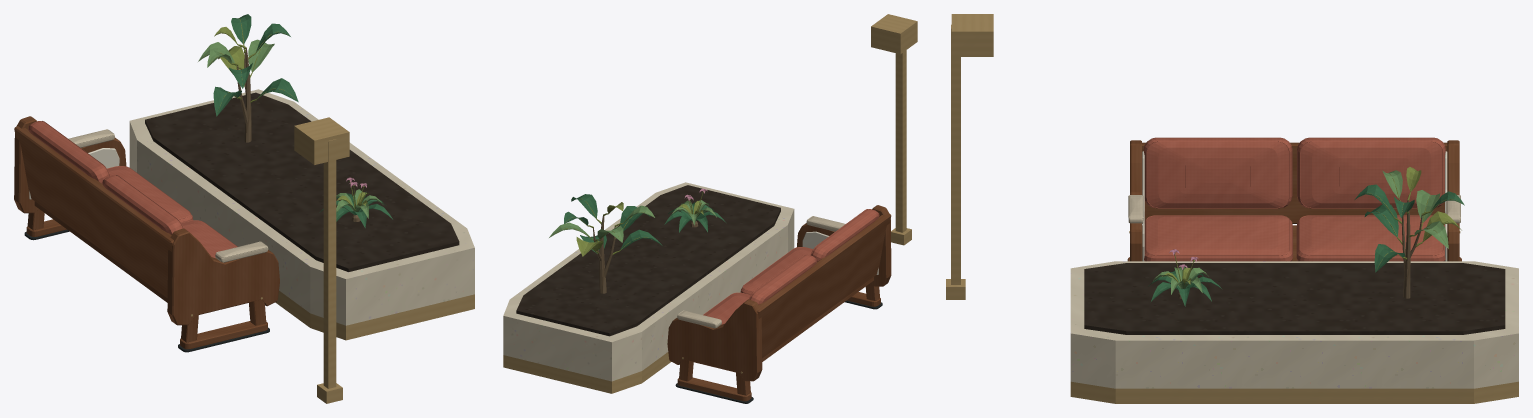
The model's file is G7_Completion_R003_G7C3_D12_Court_2.glb.
The picture shows the model from 3 angles, left to right: view 1: azimuth 30°, elevation 25°; view 2: azimuth 150°, elevation 25°; view 3: azimuth 270°, elevation 25°; orthographic projection. The views are drawn at different scales.
Visible parts, largest first — view 1: G7C3_D12_Court_2_G7C3_soil_solid_furniture, G7C3_D12_Court_2_ASTRAEA_warm_walnut.007_solid_furniture, G7C3_D12_Court_2_G7C3_stone_solid_furniture, G7C3_D12_Court_2_G7C3_metal_solid_frame, G7C3_D12_Court_2_ASTRAEA_clay_weave.007_solid_furniture, G7C3_D12_Court_2_ASTRAEA_botanical_leaf_jade.014_visual_foli, G7C3_D12_Court_2_ASTRAEA_oatmeal_weave.007_solid_furniture, G7C3_D12_Court_2_ASTRAEA_botanical_leaf_sage.014_visual_foli, G7C3_D12_Court_2_ASTRAEA_botanical_leaf_olive.014_visual_fol, G7C3_D12_Court_2_ASTRAEA_botanical_bark.014_visual_foliage, G7C3_D12_Court_2_ASTRAEA_botanical_leaf_jade.015_visual_foli, G7C3_D12_Court_2_ASTRAEA_dark_rubber.007_solid_furniture (+2 smaller); view 2: G7C3_D12_Court_2_G7C3_soil_solid_furniture, G7C3_D12_Court_2_ASTRAEA_warm_walnut.007_solid_furniture, G7C3_D12_Court_2_G7C3_stone_solid_furniture, G7C3_D12_Court_2_G7C3_metal_solid_frame, G7C3_D12_Court_2_ASTRAEA_clay_weave.007_solid_furniture, G7C3_D12_Court_2_ASTRAEA_botanical_leaf_jade.014_visual_foli, G7C3_D12_Court_2_ASTRAEA_oatmeal_weave.007_solid_furniture, G7C3_D12_Court_2_ASTRAEA_botanical_leaf_olive.014_visual_fol, G7C3_D12_Court_2_ASTRAEA_botanical_leaf_sage.014_visual_foli, G7C3_D12_Court_2_ASTRAEA_botanical_bark.014_visual_foliage, G7C3_D12_Court_2_ASTRAEA_botanical_leaf_jade.015_visual_foli; view 3: G7C3_D12_Court_2_ASTRAEA_clay_weave.007_solid_furniture, G7C3_D12_Court_2_G7C3_soil_solid_furniture, G7C3_D12_Court_2_G7C3_stone_solid_furniture, G7C3_D12_Court_2_G7C3_metal_solid_frame, G7C3_D12_Court_2_ASTRAEA_warm_walnut.007_solid_furniture, G7C3_D12_Court_2_ASTRAEA_botanical_leaf_jade.014_visual_foli, G7C3_D12_Court_2_ASTRAEA_botanical_leaf_sage.014_visual_foli, G7C3_D12_Court_2_ASTRAEA_botanical_leaf_olive.014_visual_fol, G7C3_D12_Court_2_ASTRAEA_oatmeal_weave.007_solid_furniture, G7C3_D12_Court_2_ASTRAEA_botanical_bark.014_visual_foliage, G7C3_D12_Court_2_ASTRAEA_botanical_leaf_jade.015_visual_foli, G7C3_D12_Court_2_ASTRAEA_botanical_leaf_sage.015_visual_foli (+1 smaller).
Boxes of the visible parts, left/top/right/bottom form: G7C3_D12_Court_2_G7C3_soil_solid_furniture: left=145, top=92, right=459, bottom=271; G7C3_D12_Court_2_ASTRAEA_warm_walnut.007_solid_furniture: left=14, top=116, right=279, bottom=349; G7C3_D12_Court_2_G7C3_stone_solid_furniture: left=129, top=89, right=474, bottom=325; G7C3_D12_Court_2_G7C3_metal_solid_frame: left=275, top=117, right=474, bottom=403; G7C3_D12_Court_2_ASTRAEA_clay_weave.007_solid_furniture: left=28, top=121, right=237, bottom=258; G7C3_D12_Court_2_ASTRAEA_botanical_leaf_jade.014_visual_foli: left=213, top=14, right=298, bottom=116; G7C3_D12_Court_2_ASTRAEA_oatmeal_weave.007_solid_furniture: left=68, top=129, right=268, bottom=262; G7C3_D12_Court_2_ASTRAEA_botanical_leaf_sage.014_visual_foli: left=198, top=39, right=274, bottom=71; G7C3_D12_Court_2_ASTRAEA_botanical_leaf_olive.014_visual_fol: left=201, top=18, right=295, bottom=111; G7C3_D12_Court_2_ASTRAEA_botanical_bark.014_visual_foliage: left=237, top=48, right=251, bottom=142; G7C3_D12_Court_2_ASTRAEA_botanical_leaf_jade.015_visual_foli: left=319, top=193, right=392, bottom=228; G7C3_D12_Court_2_ASTRAEA_dark_rubber.007_solid_furniture: left=24, top=229, right=269, bottom=352; G7C3_D12_Court_2_G7C3_soil_solid_furniture: left=516, top=185, right=780, bottom=336; G7C3_D12_Court_2_ASTRAEA_warm_walnut.007_solid_furniture: left=667, top=205, right=891, bottom=401; G7C3_D12_Court_2_G7C3_stone_solid_furniture: left=503, top=182, right=794, bottom=381; G7C3_D12_Court_2_G7C3_metal_solid_frame: left=503, top=14, right=917, bottom=393; G7C3_D12_Court_2_ASTRAEA_clay_weave.007_solid_furniture: left=703, top=209, right=879, bottom=324; G7C3_D12_Court_2_ASTRAEA_botanical_leaf_jade.014_visual_foli: left=564, top=194, right=662, bottom=253; G7C3_D12_Court_2_ASTRAEA_oatmeal_weave.007_solid_furniture: left=677, top=216, right=845, bottom=328; G7C3_D12_Court_2_ASTRAEA_botanical_leaf_olive.014_visual_fol: left=552, top=198, right=653, bottom=256; G7C3_D12_Court_2_ASTRAEA_botanical_leaf_sage.014_visual_foli: left=549, top=205, right=654, bottom=242; G7C3_D12_Court_2_ASTRAEA_botanical_bark.014_visual_foliage: left=593, top=216, right=615, bottom=293; G7C3_D12_Court_2_ASTRAEA_botanical_leaf_jade.015_visual_foli: left=664, top=202, right=725, bottom=232; G7C3_D12_Court_2_ASTRAEA_clay_weave.007_solid_furniture: left=1143, top=137, right=1445, bottom=261; G7C3_D12_Court_2_G7C3_soil_solid_furniture: left=1084, top=263, right=1505, bottom=334; G7C3_D12_Court_2_G7C3_stone_solid_furniture: left=1070, top=261, right=1518, bottom=388; G7C3_D12_Court_2_G7C3_metal_solid_frame: left=946, top=14, right=1518, bottom=403; G7C3_D12_Court_2_ASTRAEA_warm_walnut.007_solid_furniture: left=1127, top=140, right=1461, bottom=261; G7C3_D12_Court_2_ASTRAEA_botanical_leaf_jade.014_visual_foli: left=1354, top=184, right=1464, bottom=272; G7C3_D12_Court_2_ASTRAEA_botanical_leaf_sage.014_visual_foli: left=1382, top=170, right=1448, bottom=248; G7C3_D12_Court_2_ASTRAEA_botanical_leaf_olive.014_visual_fol: left=1367, top=167, right=1462, bottom=268; G7C3_D12_Court_2_ASTRAEA_oatmeal_weave.007_solid_furniture: left=1128, top=195, right=1460, bottom=223; G7C3_D12_Court_2_ASTRAEA_botanical_bark.014_visual_foliage: left=1401, top=200, right=1422, bottom=298; G7C3_D12_Court_2_ASTRAEA_botanical_leaf_jade.015_visual_foli: left=1148, top=270, right=1222, bottom=306; G7C3_D12_Court_2_ASTRAEA_botanical_leaf_sage.015_visual_foli: left=1152, top=267, right=1208, bottom=294.
Bounding box in the file's own units: 2.46 × 2.15 × 4.09.
Materials: 19 (18 with a texture image).
